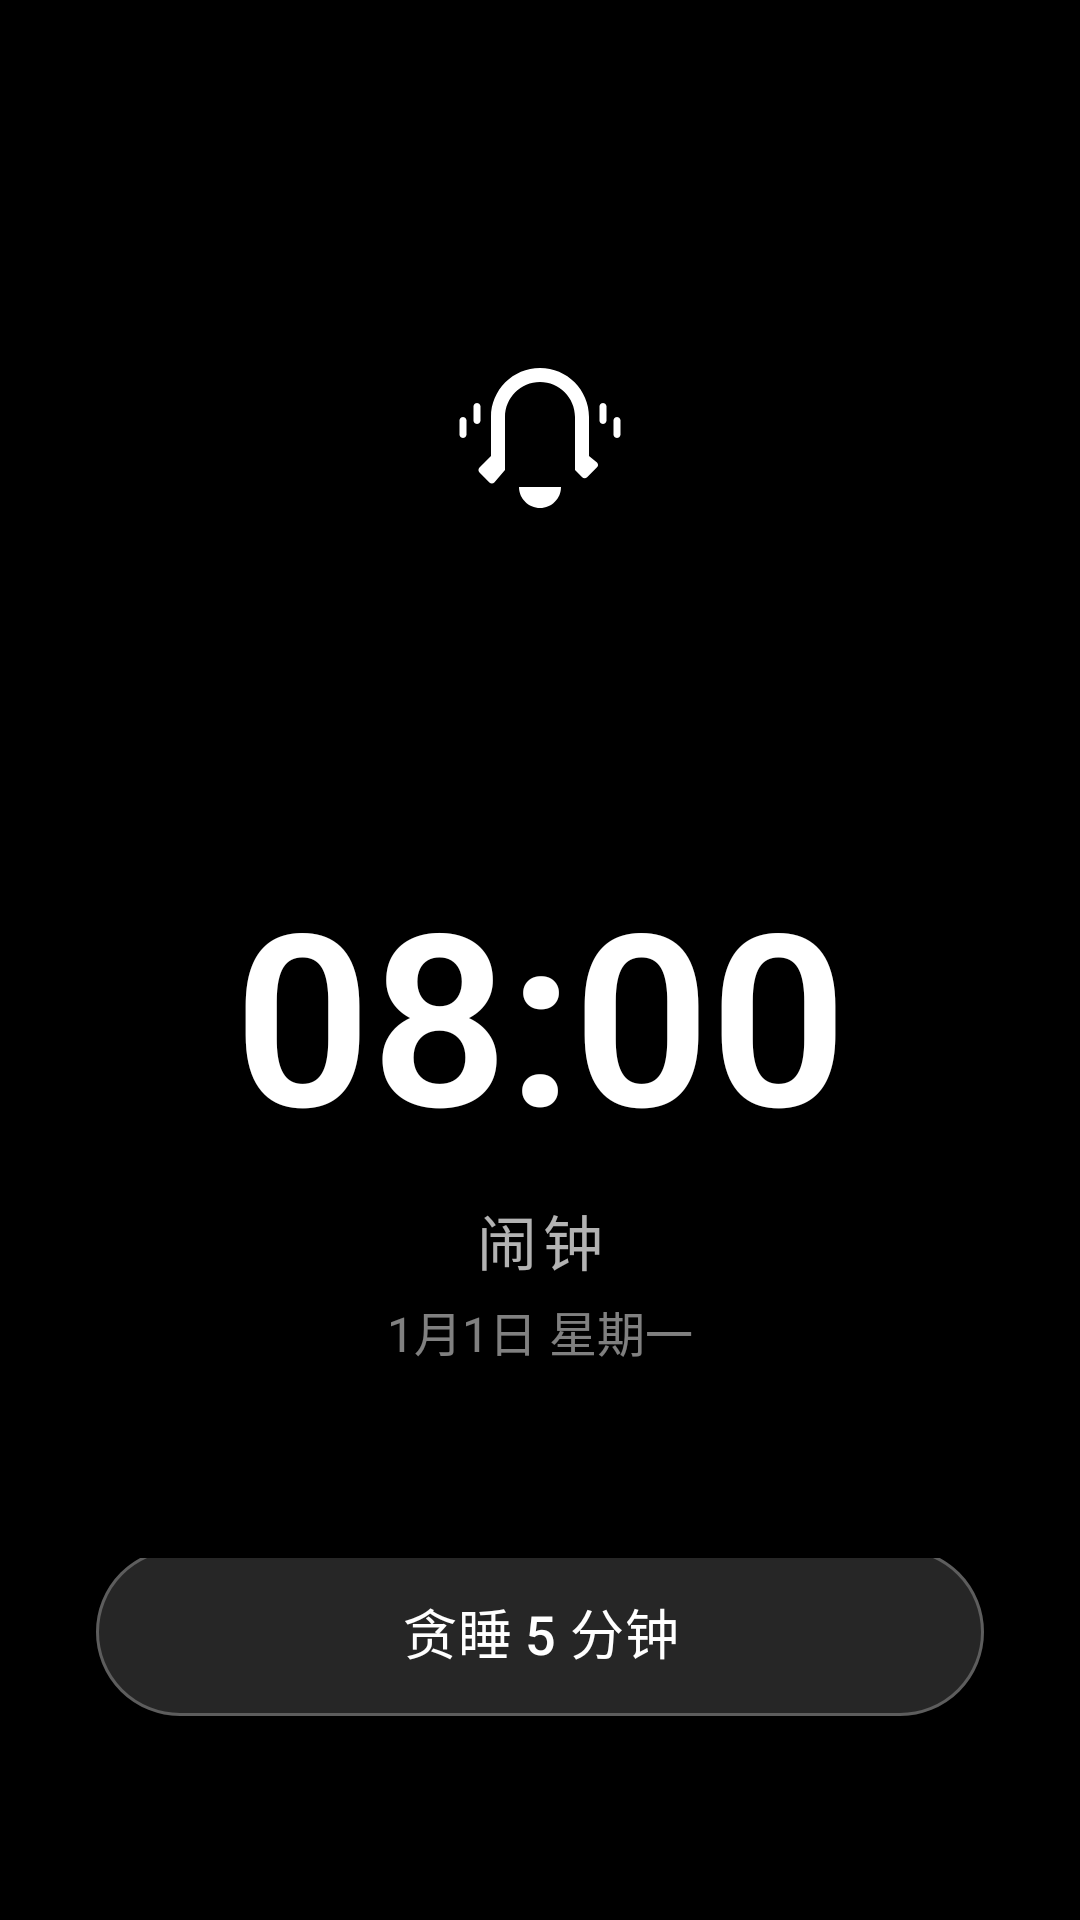

Icons on this 1080px×1920px Android screen, each with its box as BBox(x1, y1, x2, y2):
响铃图标: BBox(459, 368, 621, 508)
